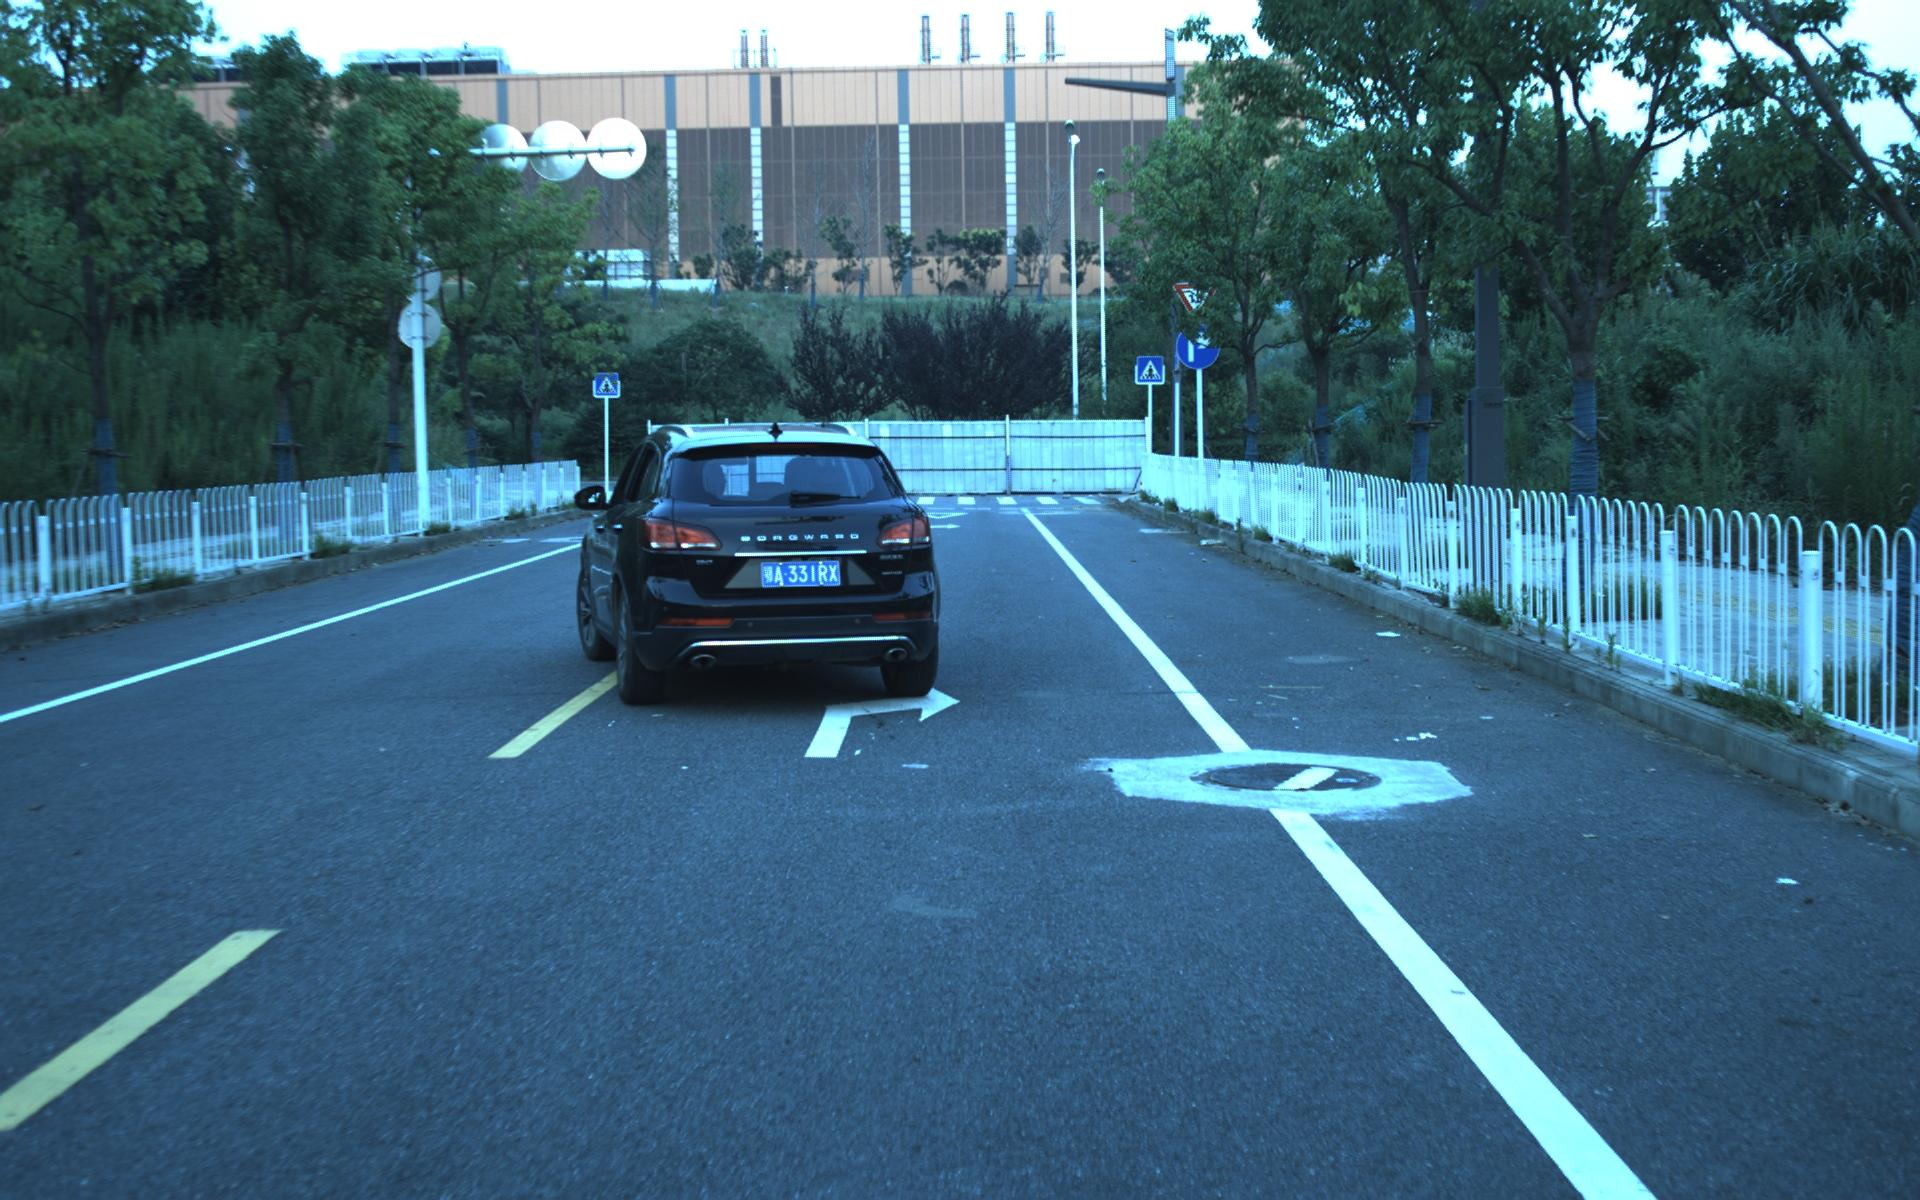Car: (571, 412, 952, 718)
